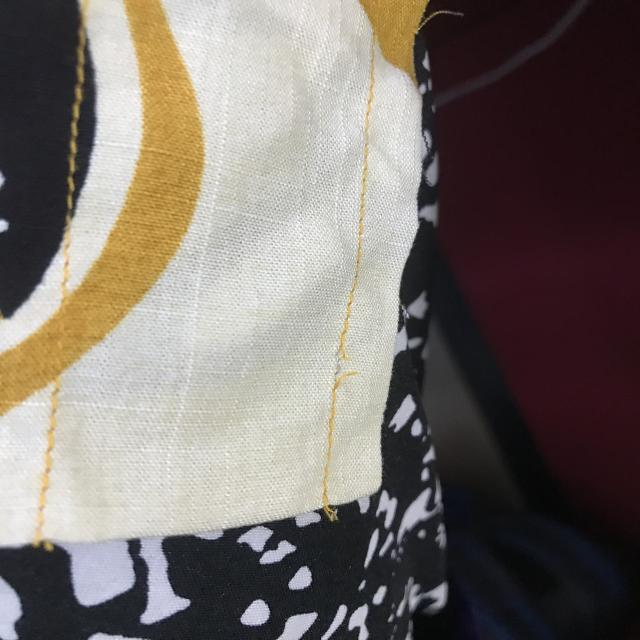broken: (320, 330, 362, 403)
